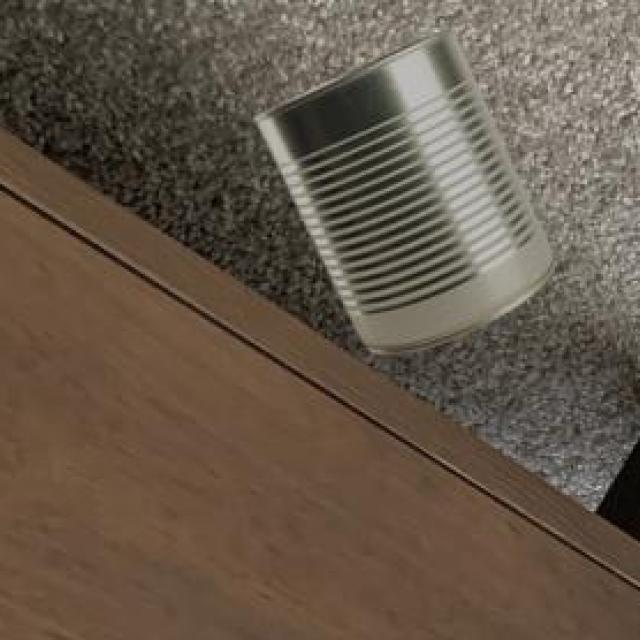logam: (252, 33, 549, 358)
